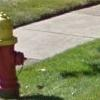Hydrant: (1, 8, 29, 99)
